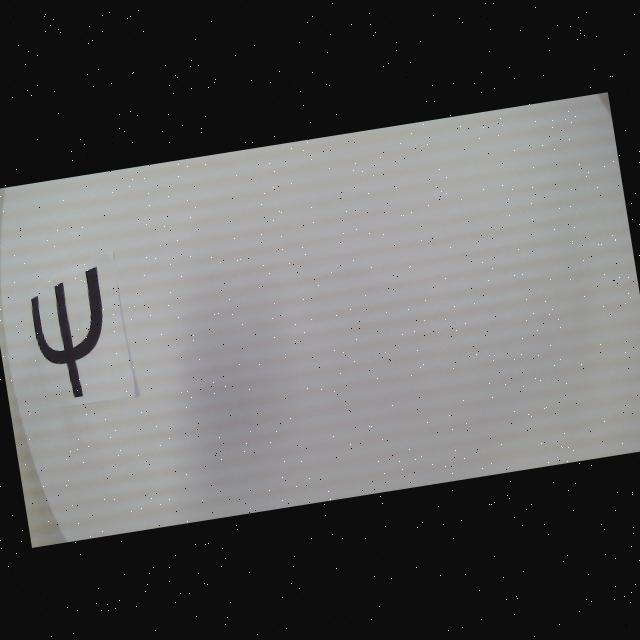PSI: (25, 265, 117, 403)
